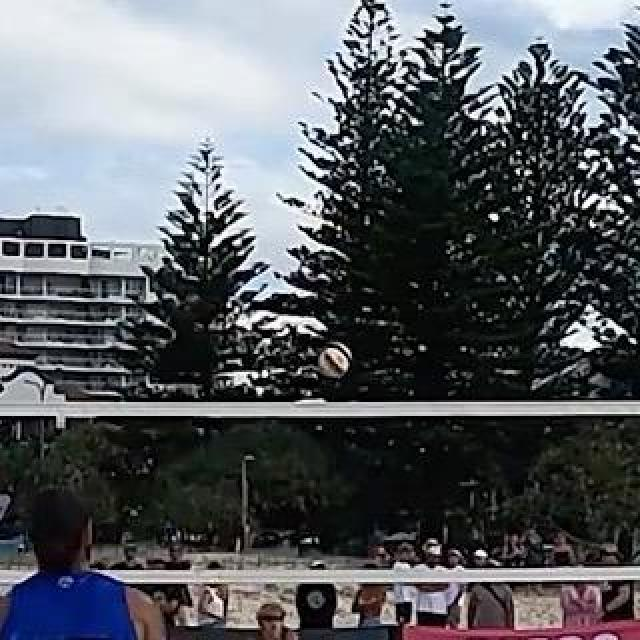volleyball: (318, 345, 350, 375)
